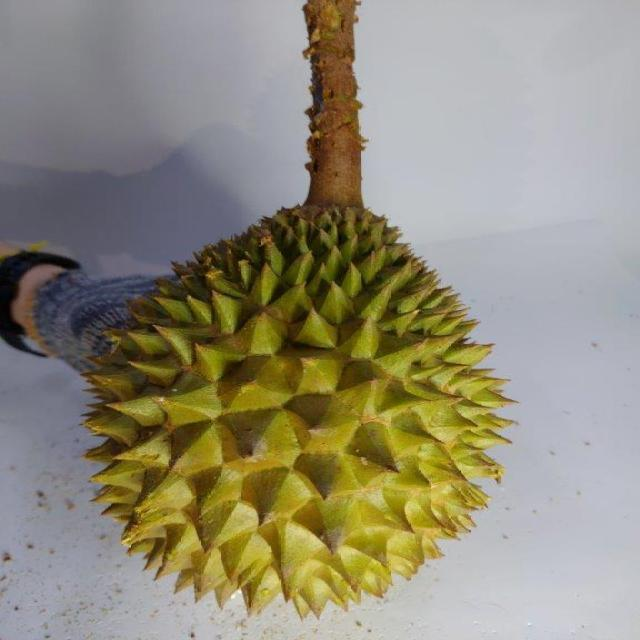mature: (71, 200, 514, 618)
